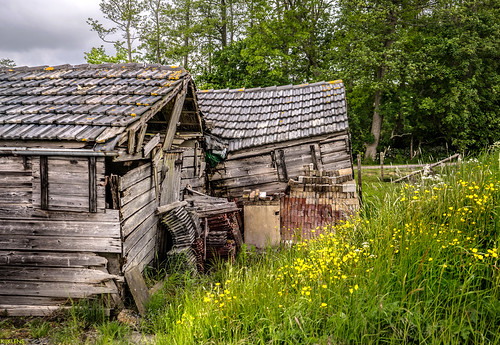building: (1, 62, 345, 345)
grass: (174, 160, 494, 345)
vegetation: (112, 5, 500, 141)
